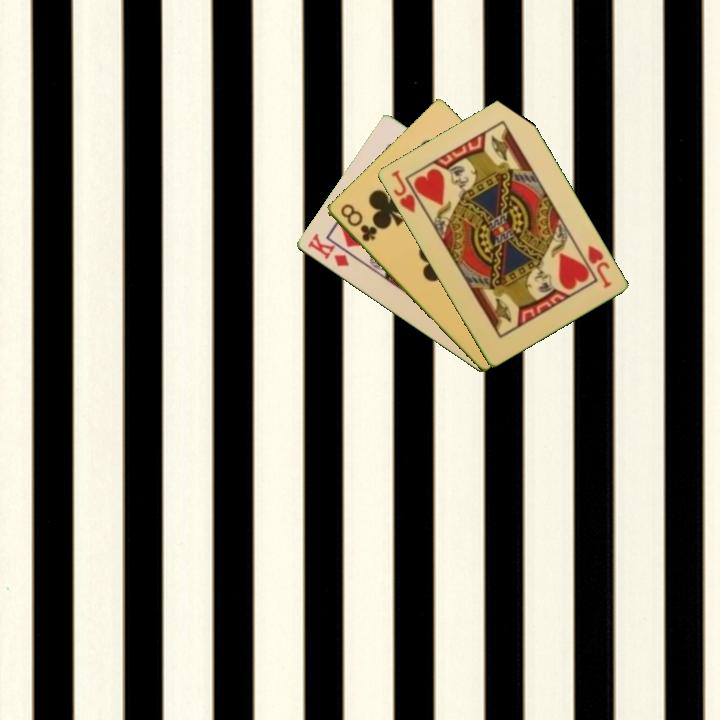8c: (336, 200, 379, 245)
Jh: (387, 166, 418, 216), (584, 241, 614, 291)
Kd: (303, 230, 352, 270)
